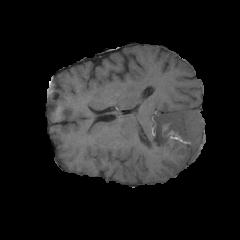glioma: (141, 109, 205, 163)
